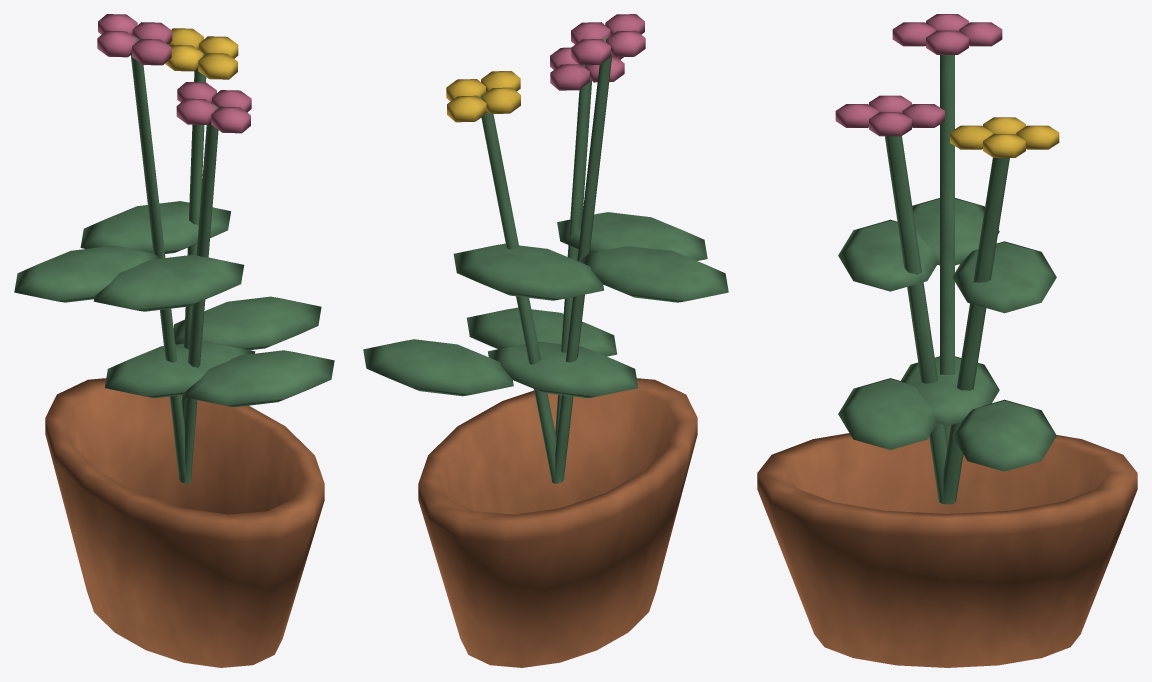
File: Furn_DecorPlant.fbx
3 renders of one model, left to right at view 1: azimuth 30°, elevation 25°; view 2: azimuth 150°, elevation 25°; view 3: azimuth 270°, elevation 25°, orthographic. The views are drawn at different scales.
Visible parts, largest first — view 1: Furn_DecorPlant_Mesh; view 2: Furn_DecorPlant_Mesh; view 3: Furn_DecorPlant_Mesh.
Boxes of the visible parts, x1,y1,x2,y2 form: Furn_DecorPlant_Mesh: (14, 14, 334, 667); Furn_DecorPlant_Mesh: (363, 14, 728, 667); Furn_DecorPlant_Mesh: (757, 14, 1137, 667).
Bounding box in the file's own units: 0.5 × 0.85 × 0.5.
Materials: 4 (4 with a texture image).
